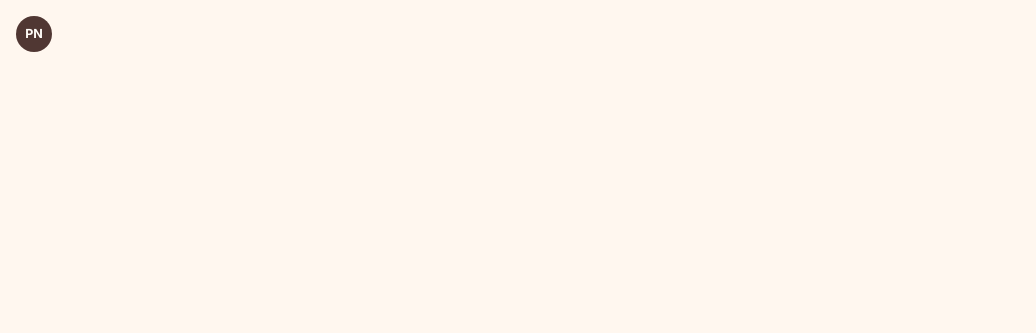
Scenario: ParentAccountMenu in Chinese › names the button and every item in Chinese, and switches back to English
What coordinates should you click on to do the following:
click the button with aria-label "账户菜单"
I would click on:
 (34, 34)
Its box is [12, 12, 56, 56].
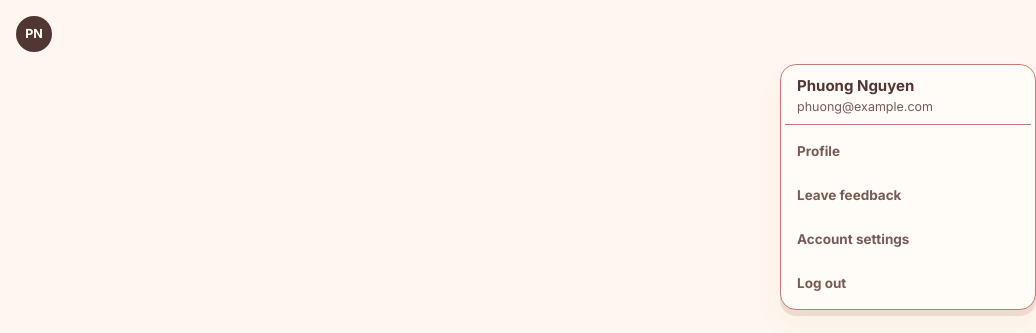
Expected: the button named "账户设置" is shown, [785, 217, 1031, 261]
Expected: the link "Leave feedback" is shown, [797, 187, 901, 203]
Expected: the button "Log out" is shown, [785, 261, 1031, 305]
